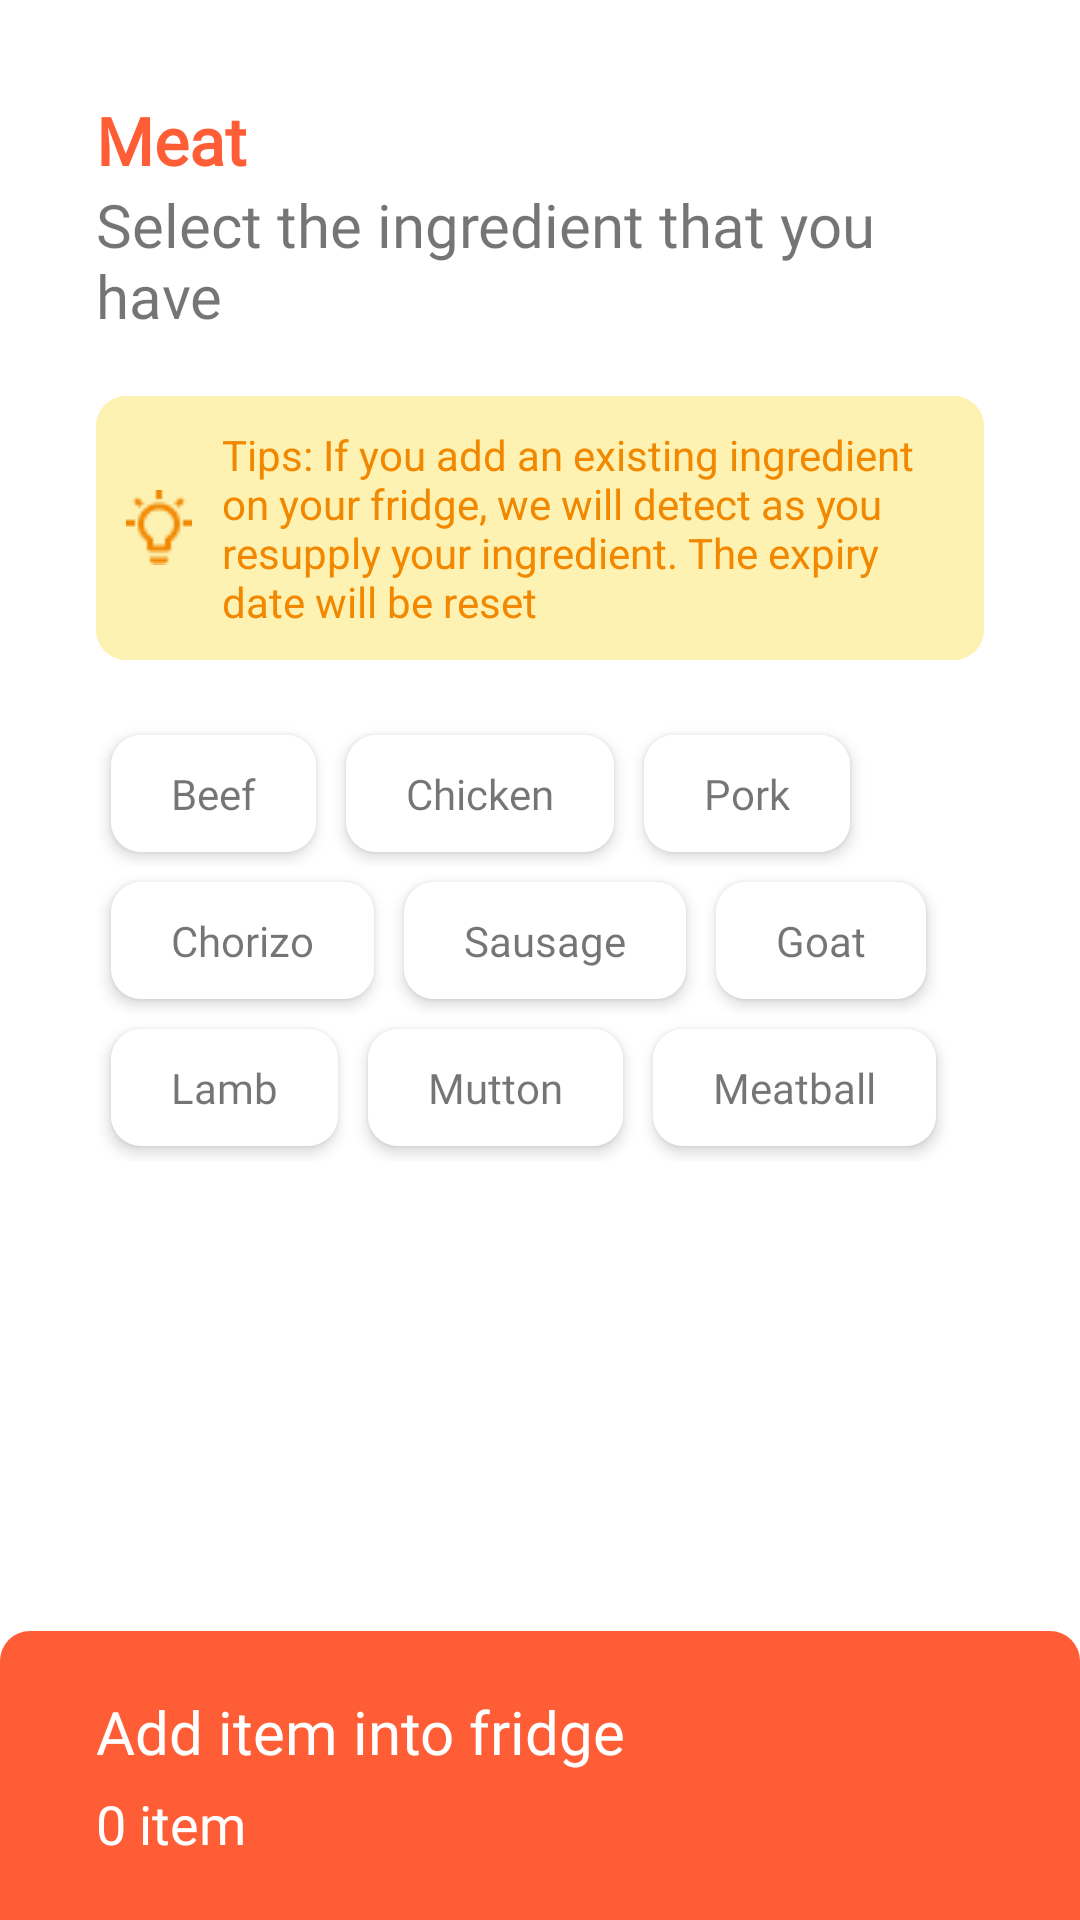

Where to tap for icons on this 1080 x 1920 app screen, as [x,y]:
bulb: [159,527]
